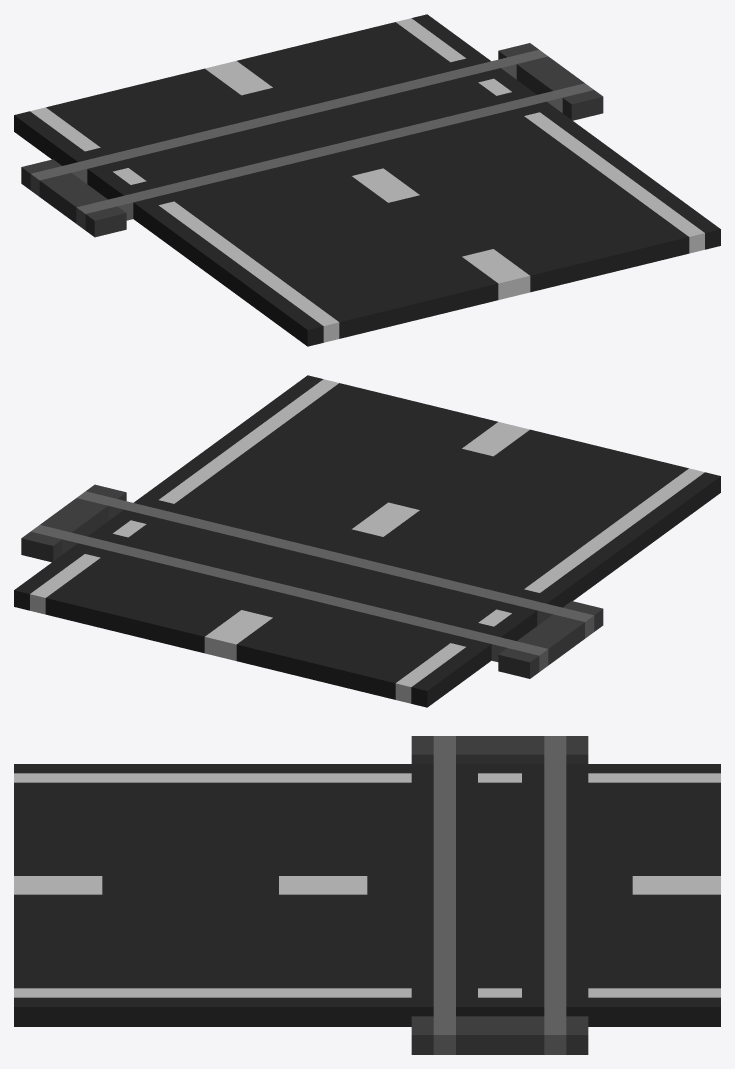
File: track-road-intersection-1.gltf
3 views of the same model, one above another, from view 1: azimuth 30°, elevation 25°; view 2: azimuth 150°, elevation 25°; view 3: azimuth 270°, elevation 25° (orthographic). The views are drawn at different scales.
Parts seen in each view (by area): view 1: track-road-intersection-1; view 2: track-road-intersection-1; view 3: track-road-intersection-1.
Boxes of the visible parts, x1,y1,x2,y2 form: track-road-intersection-1: (14,14,720,346); track-road-intersection-1: (14,375,720,707); track-road-intersection-1: (14,736,720,1054).
Size of the model in its own units: 3.2 by 0.1 by 3.2.
1 material, 1 textured.
